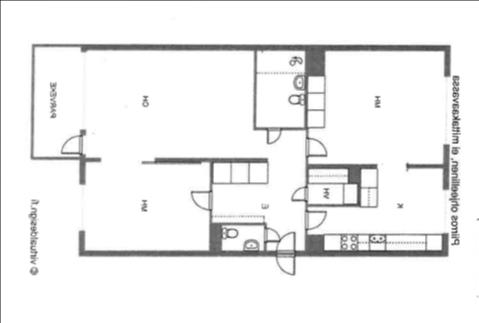bathroom: (254, 72, 306, 130), (220, 225, 264, 250)
door: (275, 230, 297, 257), (60, 133, 86, 155), (275, 249, 295, 277), (302, 208, 327, 230), (188, 190, 214, 211), (304, 136, 328, 158), (264, 125, 282, 145), (290, 185, 310, 202), (261, 226, 280, 243)
perimeter: (76, 42, 452, 258)
window: (440, 71, 454, 147), (78, 47, 88, 135), (76, 178, 87, 236), (441, 186, 451, 239)
